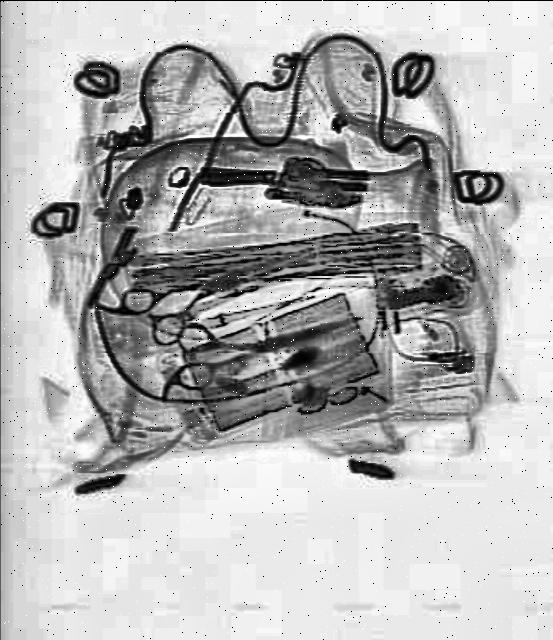Scissors: (116, 237, 251, 353), (169, 306, 308, 388)
